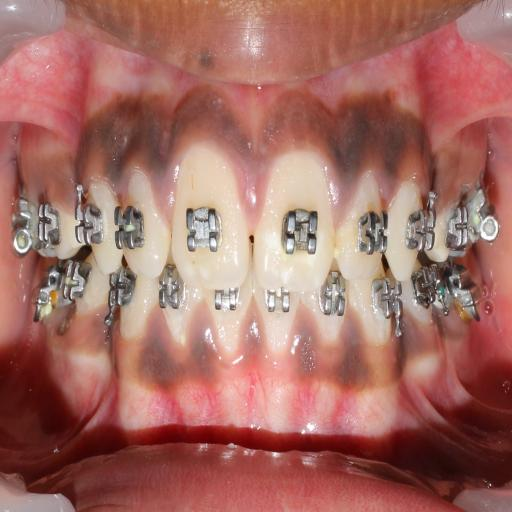correct_brace: (278, 194, 322, 262), (178, 203, 226, 255), (352, 199, 387, 259), (404, 203, 438, 260), (72, 197, 104, 250), (115, 202, 144, 244)
incorrect_brace: (338, 160, 388, 290), (118, 160, 171, 278)
